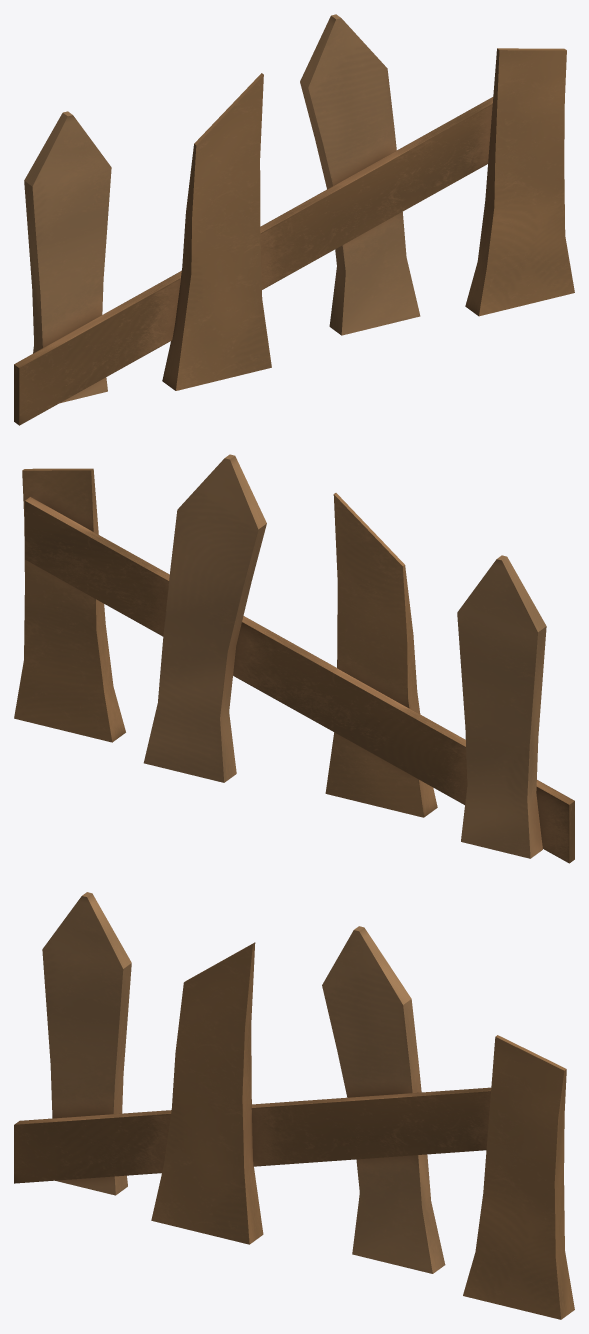
The model's file is FenceModel.fbx.
The picture shows the model from 3 angles, top to bottom: view 1: azimuth 30°, elevation 25°; view 2: azimuth 150°, elevation 25°; view 3: azimuth 330°, elevation 25°; orthographic projection. The views are drawn at different scales.
Parts seen in each view (by area): view 1: Fence; view 2: Fence; view 3: Fence.
Boxes of the visible parts, box(x1,y1,x2,y2) form: Fence: box(14, 14, 574, 425); Fence: box(14, 454, 574, 863); Fence: box(14, 892, 574, 1319).
Bounding box in the file's own units: 377 × 212 × 34.25.
